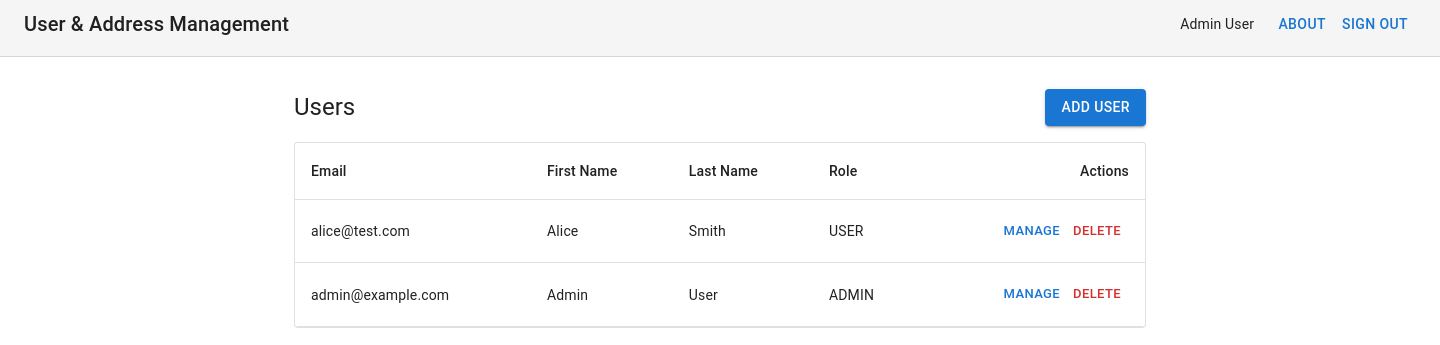
Test: UserListPage › switches row content to the address preview while hovering
Expected: the text "alice@test.com" is shown, [295,199,531,263]
Hover over the row "alice@test.com Alice Smith USER Manage Delete".
mouse_move(720, 231)  # box [295,199,1145,263]
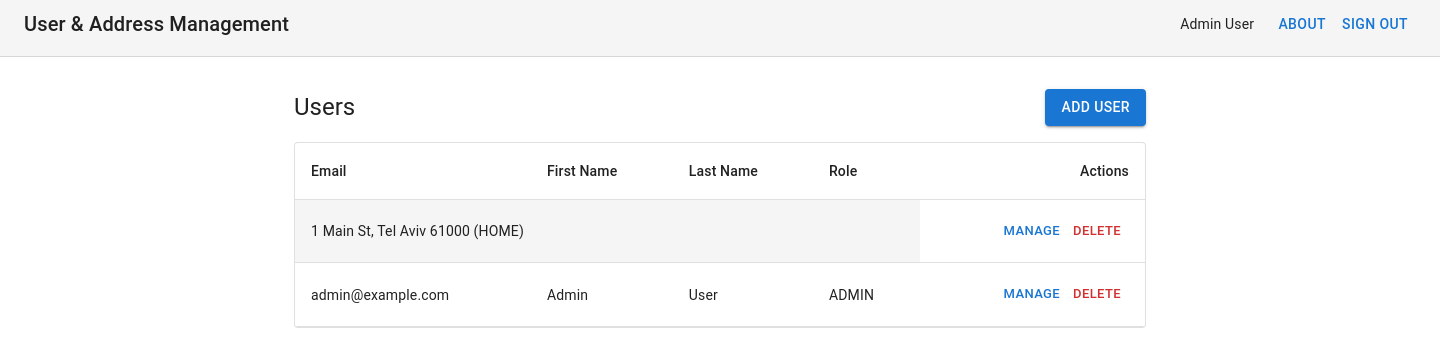
Expected: the link "Manage" in the row of "1 Main St" is shown, [1004,222,1060,238]
Now the text "1 Main St, Tel Aviv 61000 (HOME)" is shown, box [311,223,524,239]
Now the text "alice@test.com" is gone
